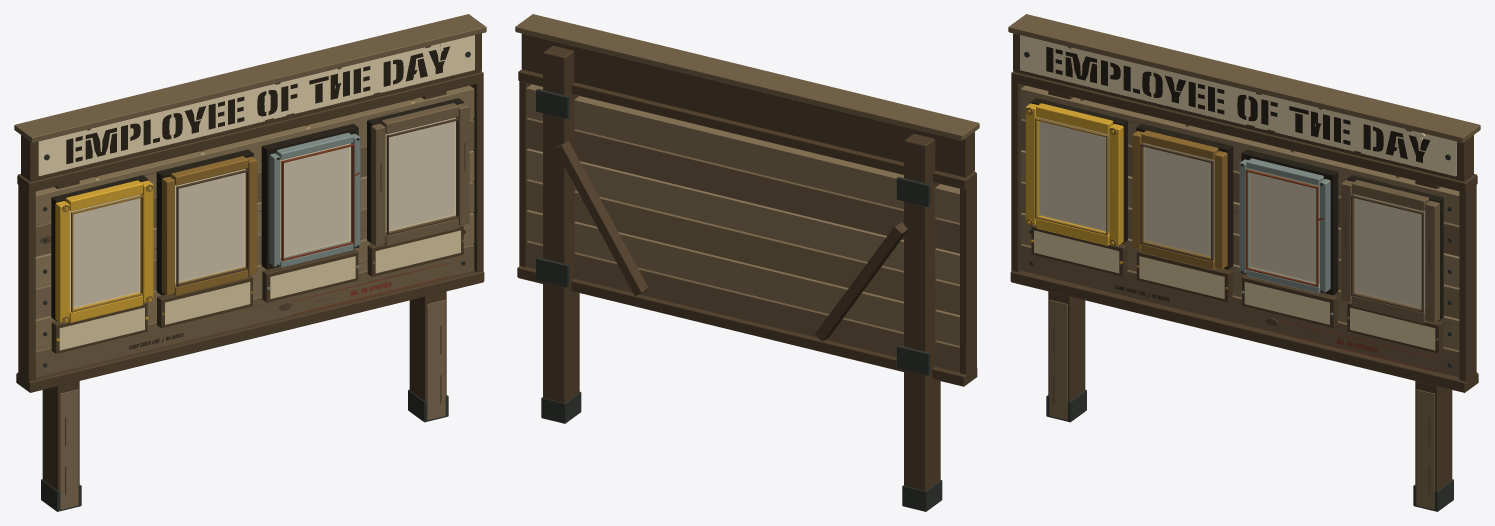
Rendered from EmployeeBoard.glb.
3 views of the same model, side by side, from view 1: azimuth 30°, elevation 25°; view 2: azimuth 150°, elevation 25°; view 3: azimuth 330°, elevation 25° (orthographic).
Visible parts, largest first — view 1: EmployeeBoardBody, Photo4, Photo1, Photo3, Photo2, Plaque1, Plaque4, Plaque2, Plaque3; view 2: EmployeeBoardBody; view 3: EmployeeBoardBody, Photo1, Photo4, Photo2, Photo3, Plaque4, Plaque1, Plaque2, Plaque3.
Part boxes in pixels (x1,y1,x2,y2): EmployeeBoardBody: (14,14,486,511); Photo4: (386,119,454,230); Photo1: (70,196,138,307); Photo3: (281,144,349,255); Photo2: (176,170,243,281); Plaque1: (59,307,144,350); Plaque4: (375,230,460,273); Plaque2: (165,282,250,324); Plaque3: (270,256,355,298); EmployeeBoardBody: (515,14,979,511); EmployeeBoardBody: (1008,14,1480,511); Photo1: (1040,119,1108,230); Photo4: (1356,196,1424,307); Photo2: (1145,144,1213,255); Photo3: (1251,170,1318,281); Plaque4: (1350,307,1435,350); Plaque1: (1034,230,1119,273); Plaque2: (1139,256,1224,298); Plaque3: (1244,282,1329,324).
Bounding box in the file's own units: 3.2 × 2.6 × 0.437.
